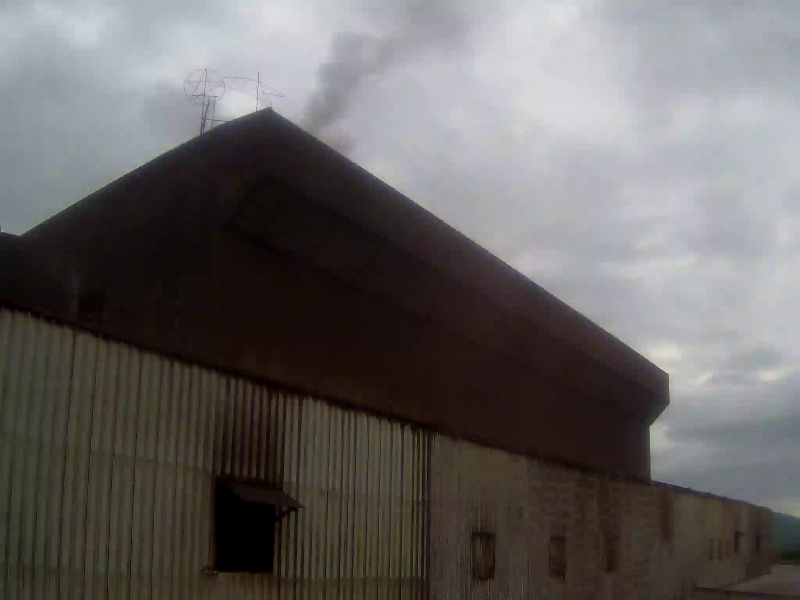bom: (266, 53, 711, 473), (3, 12, 273, 196), (663, 287, 800, 468)
